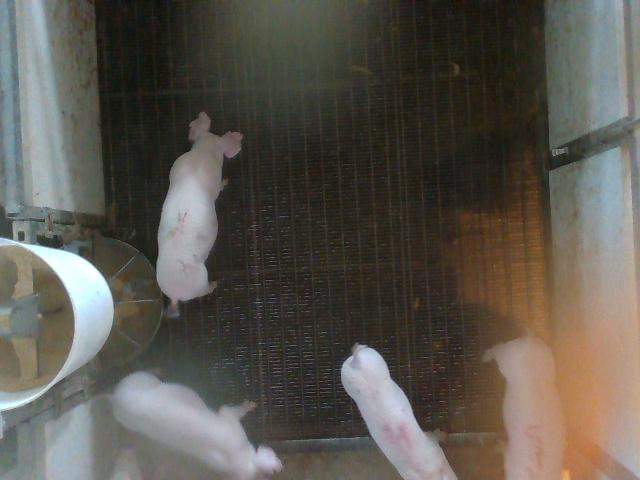pig-3: (484, 336, 564, 478)
pig-4: (341, 344, 456, 479)
